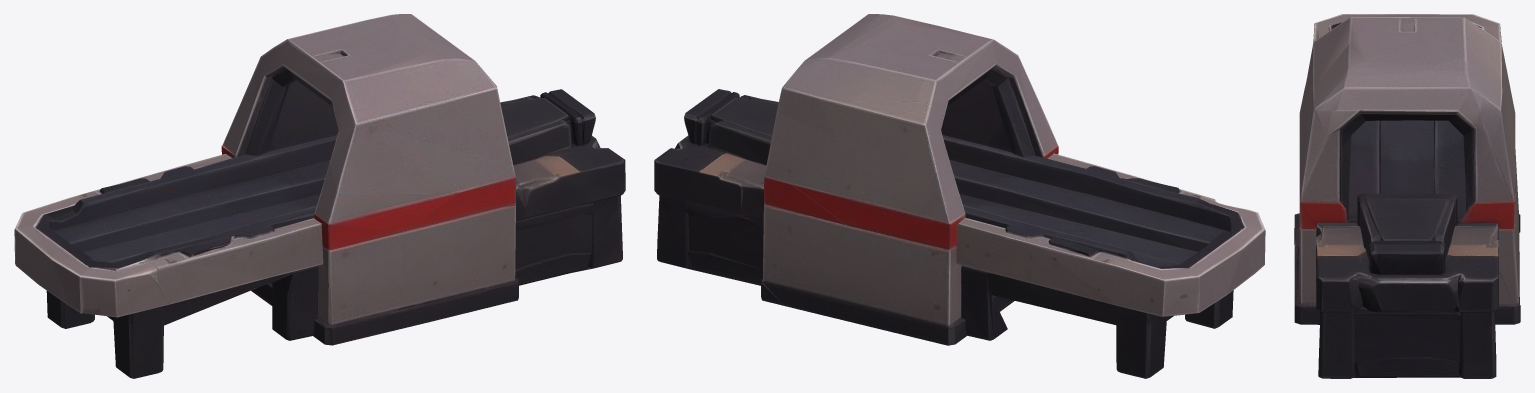
The model's file is return.glb.
3 views of the same model, side by side, from view 1: azimuth 30°, elevation 25°; view 2: azimuth 150°, elevation 25°; view 3: azimuth 270°, elevation 25° (orthographic).
Size of the model in its own units: 1.9 by 0.7948 by 0.6933.
Materials: 1 (1 with a texture image).
